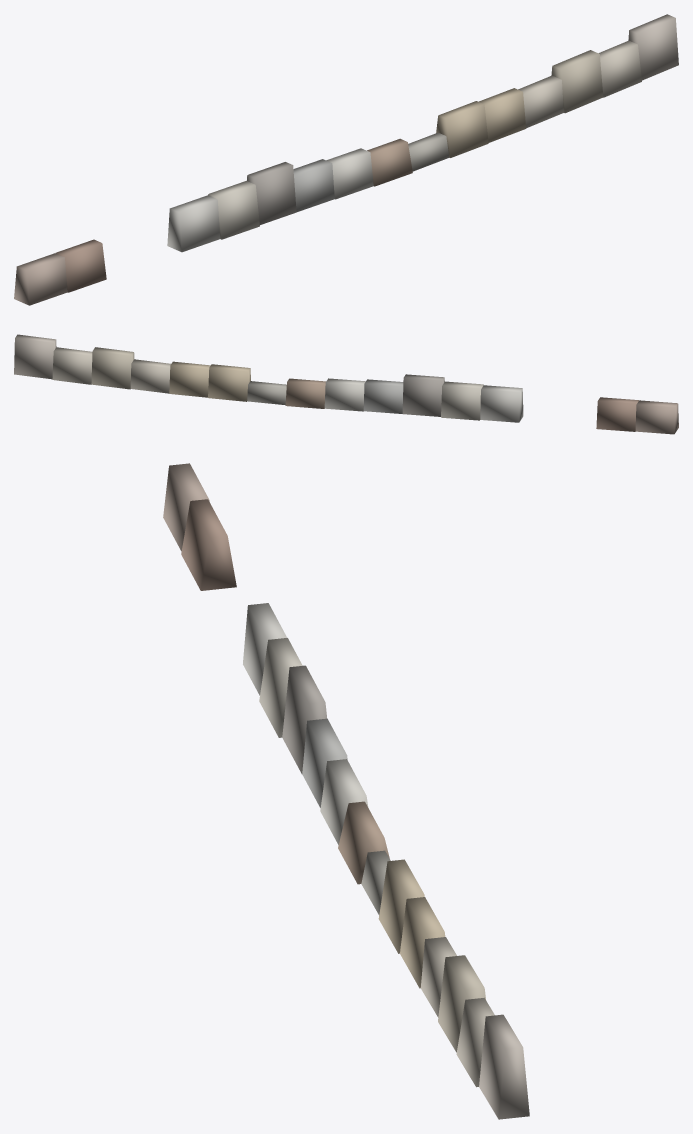
Rendered from farm_3_0_collision.glb.
3 renders of one model, top to bottom at view 1: azimuth 30°, elevation 25°; view 2: azimuth 150°, elevation 25°; view 3: azimuth 270°, elevation 25°, orthographic. The views are drawn at different scales.
Visible parts, largest first — view 1: geometry_0; view 2: geometry_0; view 3: geometry_0.
Part boxes in pixels (box(x1,y1,x2,y2)): geometry_0: box(14, 14, 678, 305); geometry_0: box(14, 334, 678, 434); geometry_0: box(163, 463, 529, 1119).
Size of the model in its own units: 25.75 by 1.95 by 7.05.
